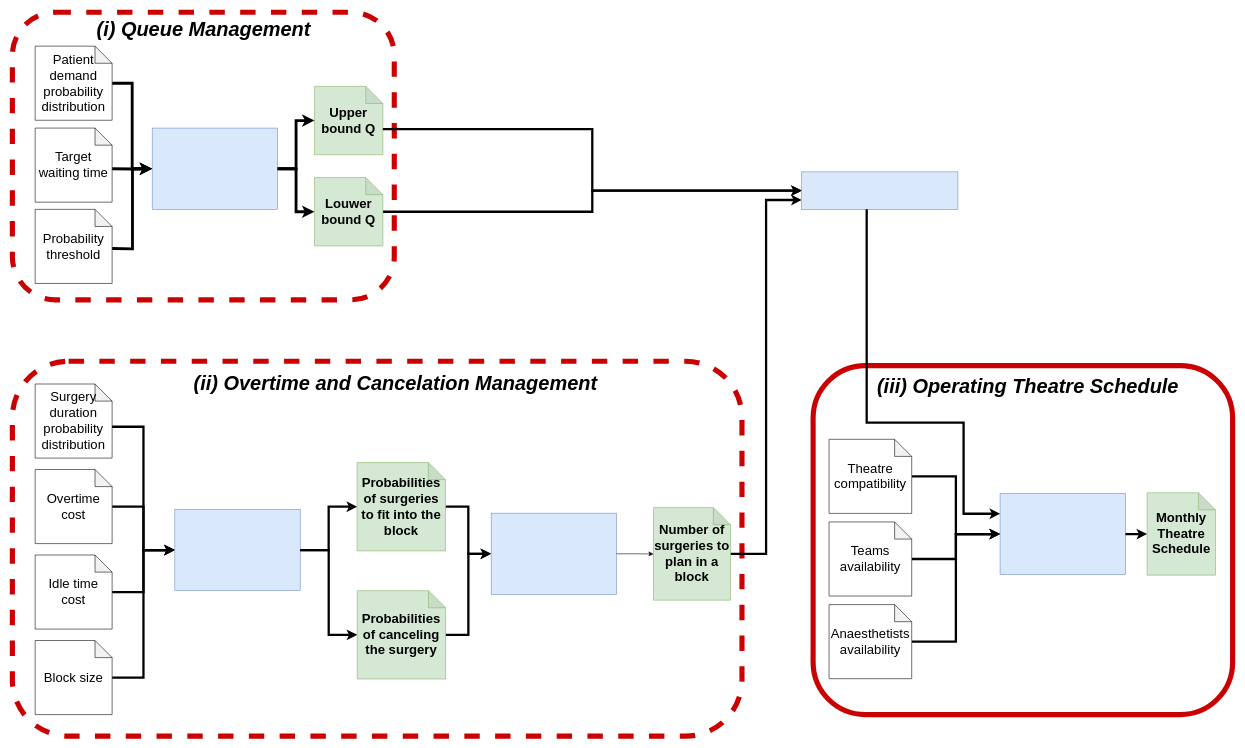
Some shapes in this 1245 by 748 pixel diagram are drawn without their labels. Each missing label, with the centre of its shape:
(R,Q) Control Policy: pixel 215 168
Inventory- based model: pixel 554 553
MILP allocation model: pixel 1062 534
Newsvendor model: pixel 237 550
Preprocessing: pixel 879 190
